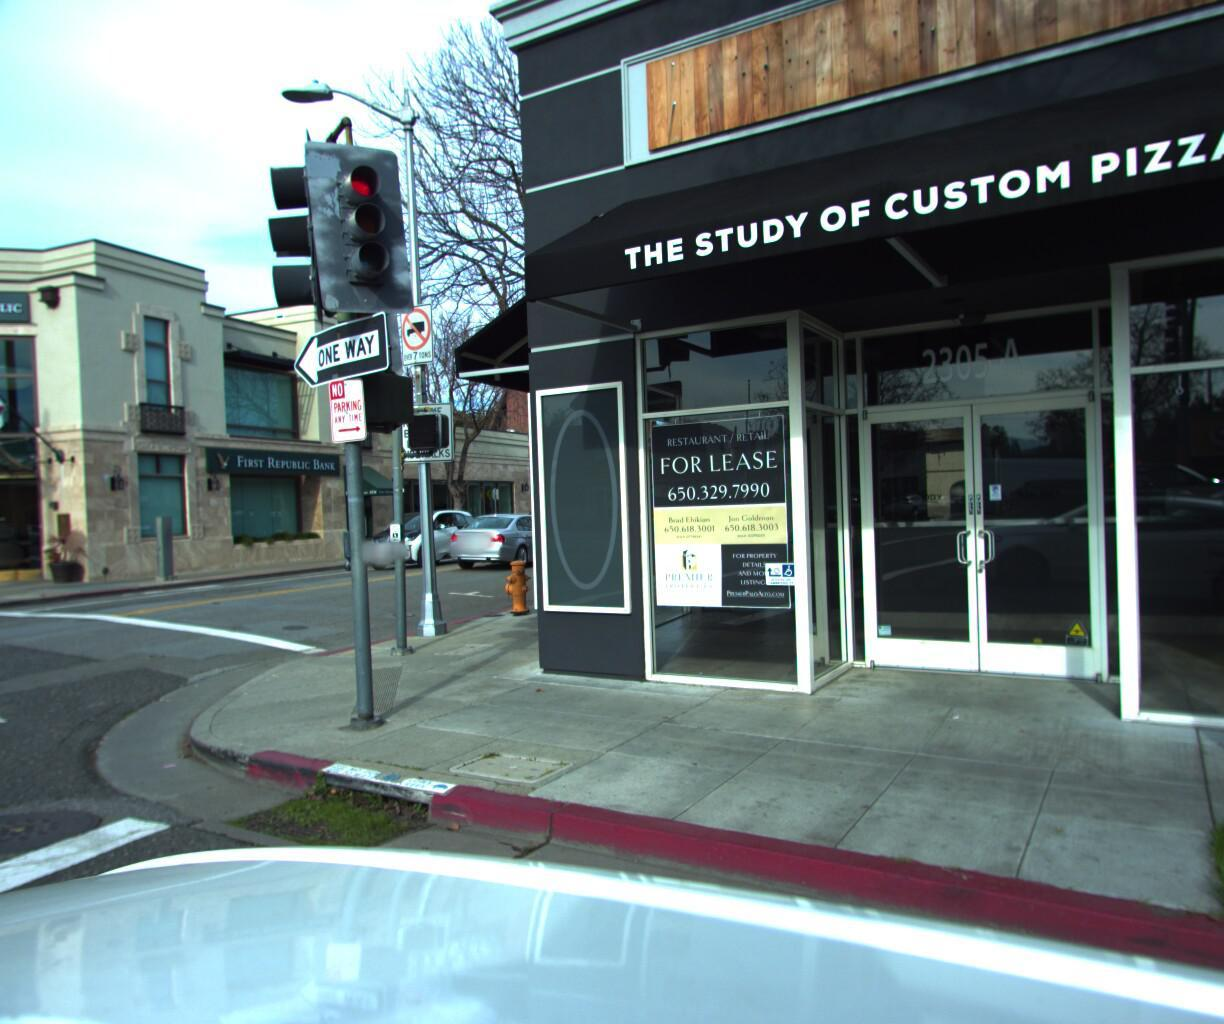car: (439, 507, 579, 570), (357, 503, 491, 564)
